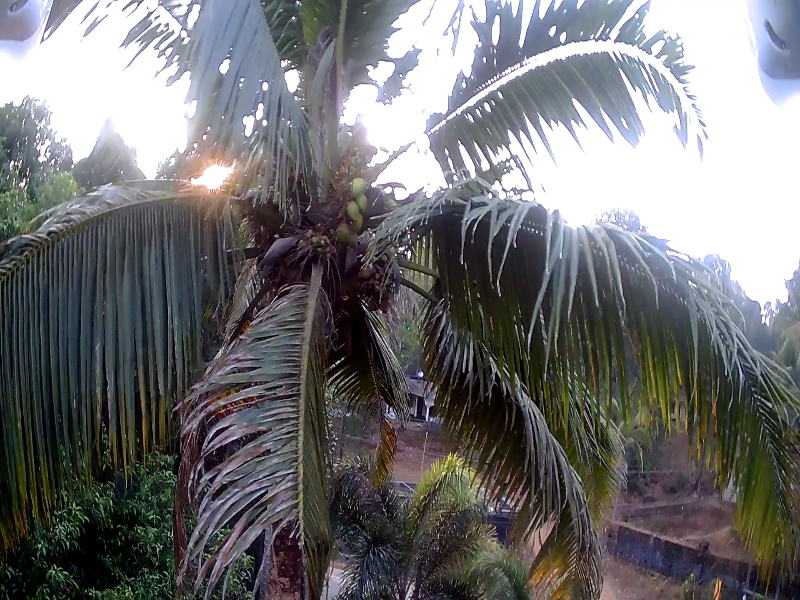coconut: (328, 222, 352, 240), (355, 195, 372, 209), (347, 212, 359, 228), (342, 204, 355, 218), (351, 178, 360, 194)
